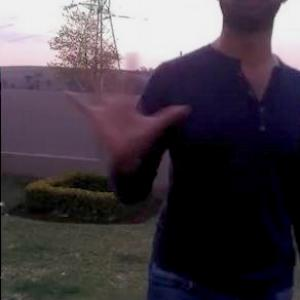follow_hand: (64, 47, 190, 160)
